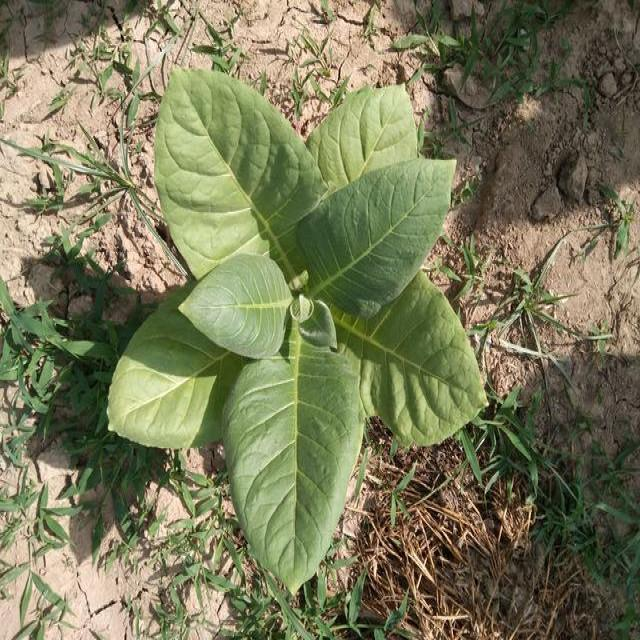crop: (109, 55, 494, 595)
